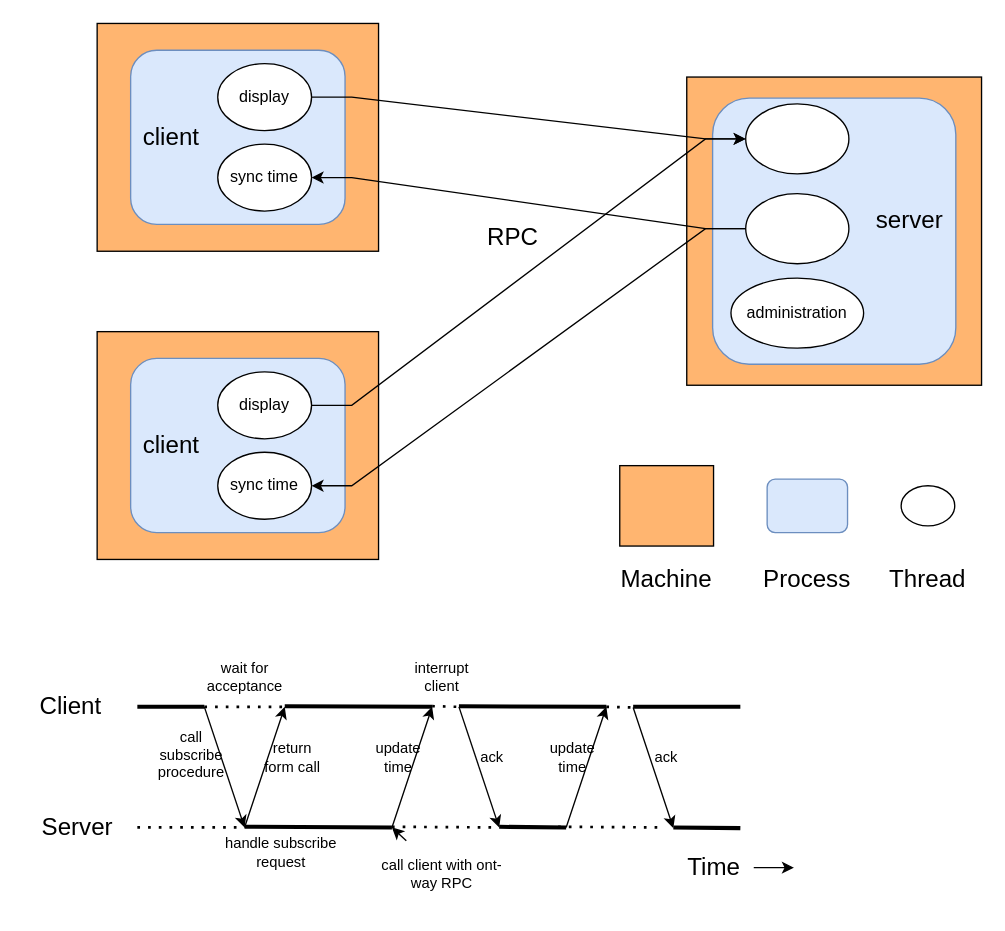
Image size: 1005x931. Some labels were removed from this diagram. Here are the shapes that lost their labels. From the top down, the centre of each, then its label:
the point at 796,138: handle subscribe
the point at 796,228: push time
